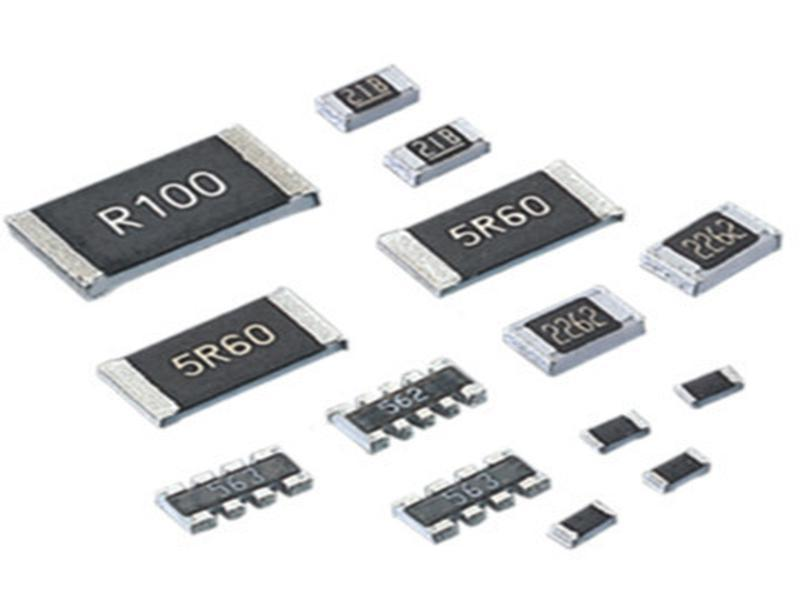SMD resistor: (4, 121, 326, 297), (362, 160, 637, 297), (92, 292, 352, 427), (639, 201, 785, 298), (500, 283, 650, 375)
